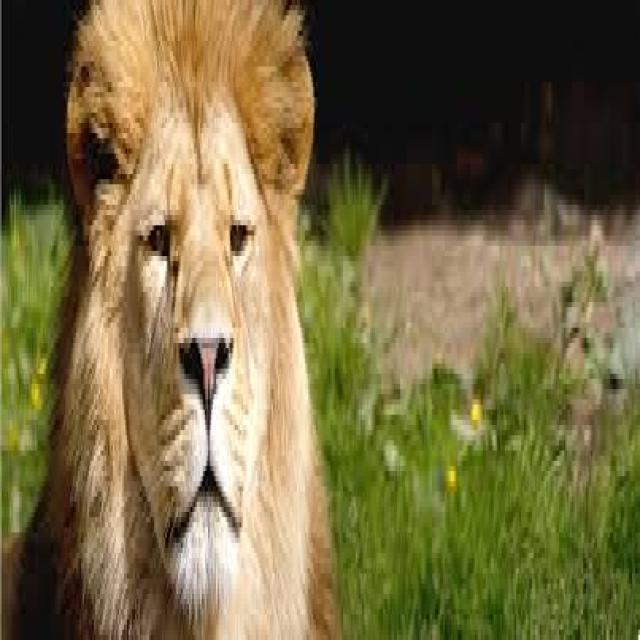Lion: (4, 10, 339, 635)
